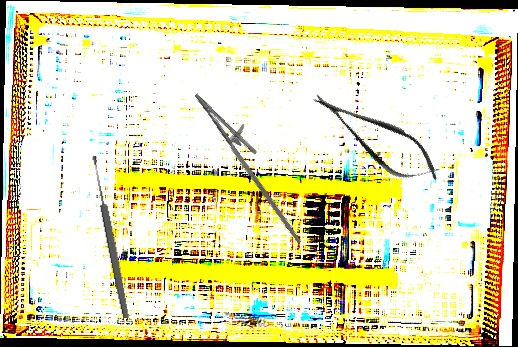Micro Scissor: (303, 76, 450, 198)
Needle Holder: (177, 83, 329, 245)
Surgical Spoon: (89, 155, 132, 319)
